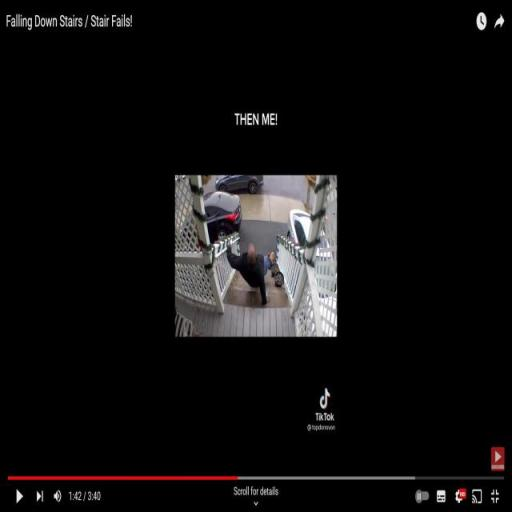Fall: (225, 237, 276, 308)
